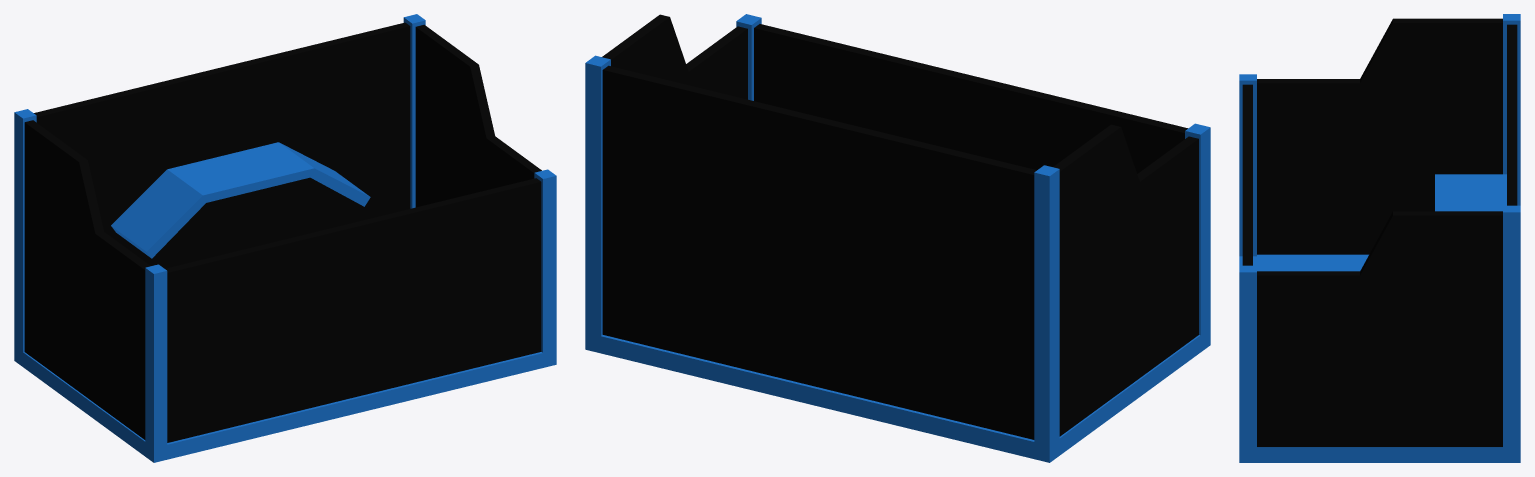
File: SM_aquarium.fbx
3 renders of one model, left to right at view 1: azimuth 30°, elevation 25°; view 2: azimuth 150°, elevation 25°; view 3: azimuth 270°, elevation 25°, orthographic. The views are drawn at different scales.
Parts seen in each view (by area): view 1: Cube_26; view 2: Cube_26; view 3: Cube_26.
Boxes of the visible parts, x1,y1,x2,y2 form: Cube_26: (14, 14, 556, 462); Cube_26: (585, 14, 1210, 462); Cube_26: (1239, 14, 1520, 462).
Size of the model in its own units: 50 by 29.49 by 30.
